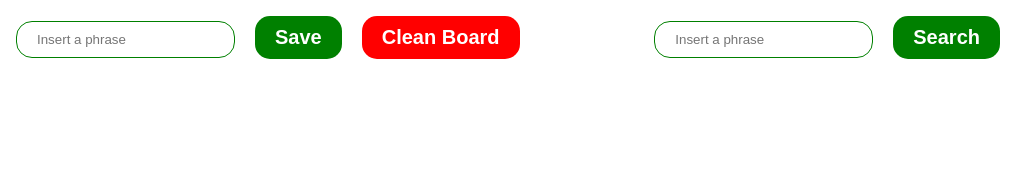
Test: App › add text
The image size is (1017, 185).
Step 1. Type "First Phrase" into the field with test id "input-text" → point(126, 40), box [16,21,235,58]
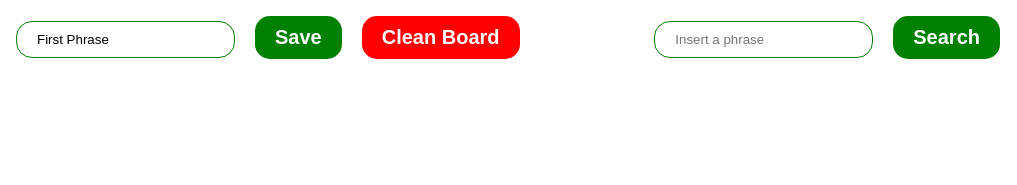
Step 2. Click the button with test id "save-button" → point(298, 38), box [255,16,342,59]
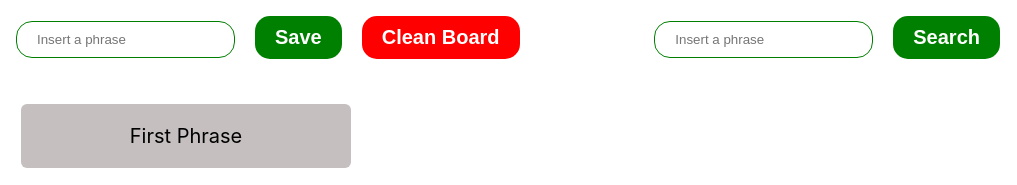
Expected: the text "First Phrase" is shown, [21,104,351,168]
